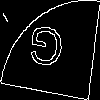G: (25, 24, 66, 78)
